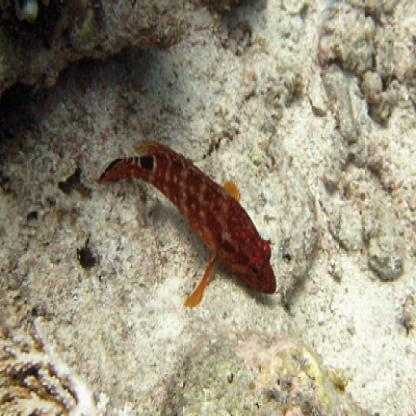grouper: (99, 137, 279, 307)
